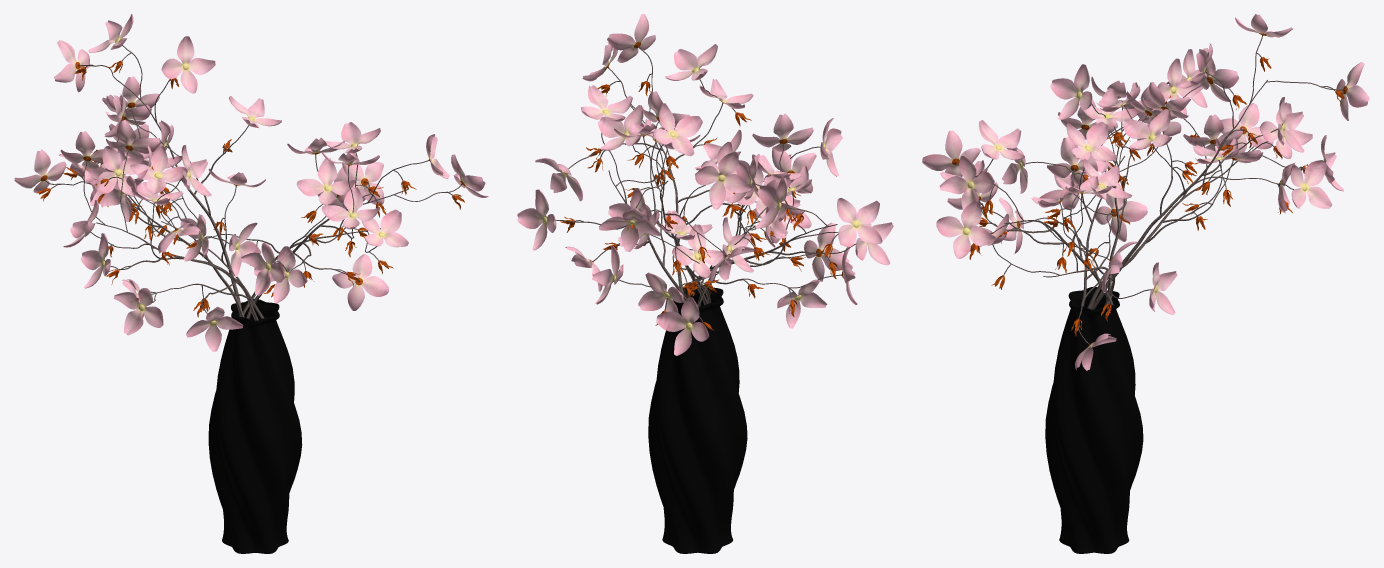
The model's file is flowers_with_the_vase.glb.
3 renders of one model, left to right at view 1: azimuth 30°, elevation 25°; view 2: azimuth 150°, elevation 25°; view 3: azimuth 270°, elevation 25°, orthographic. The views are drawn at different scales.
Parts seen in each view (by area): view 1: GrowFX01, Plane01; view 2: GrowFX01, Plane01; view 3: GrowFX01, Plane01.
Part boxes in pixels (<box>): GrowFX01: <box>14,14,488,351</box>; Plane01: <box>208,298,302,553</box>; GrowFX01: <box>517,14,893,355</box>; Plane01: <box>648,284,747,553</box>; GrowFX01: <box>922,14,1369,370</box>; Plane01: <box>1045,286,1143,553</box>.
Bounding box in the file's own units: 0.9261 × 1.21 × 0.9771.
Materials: 4 (3 with a texture image).
